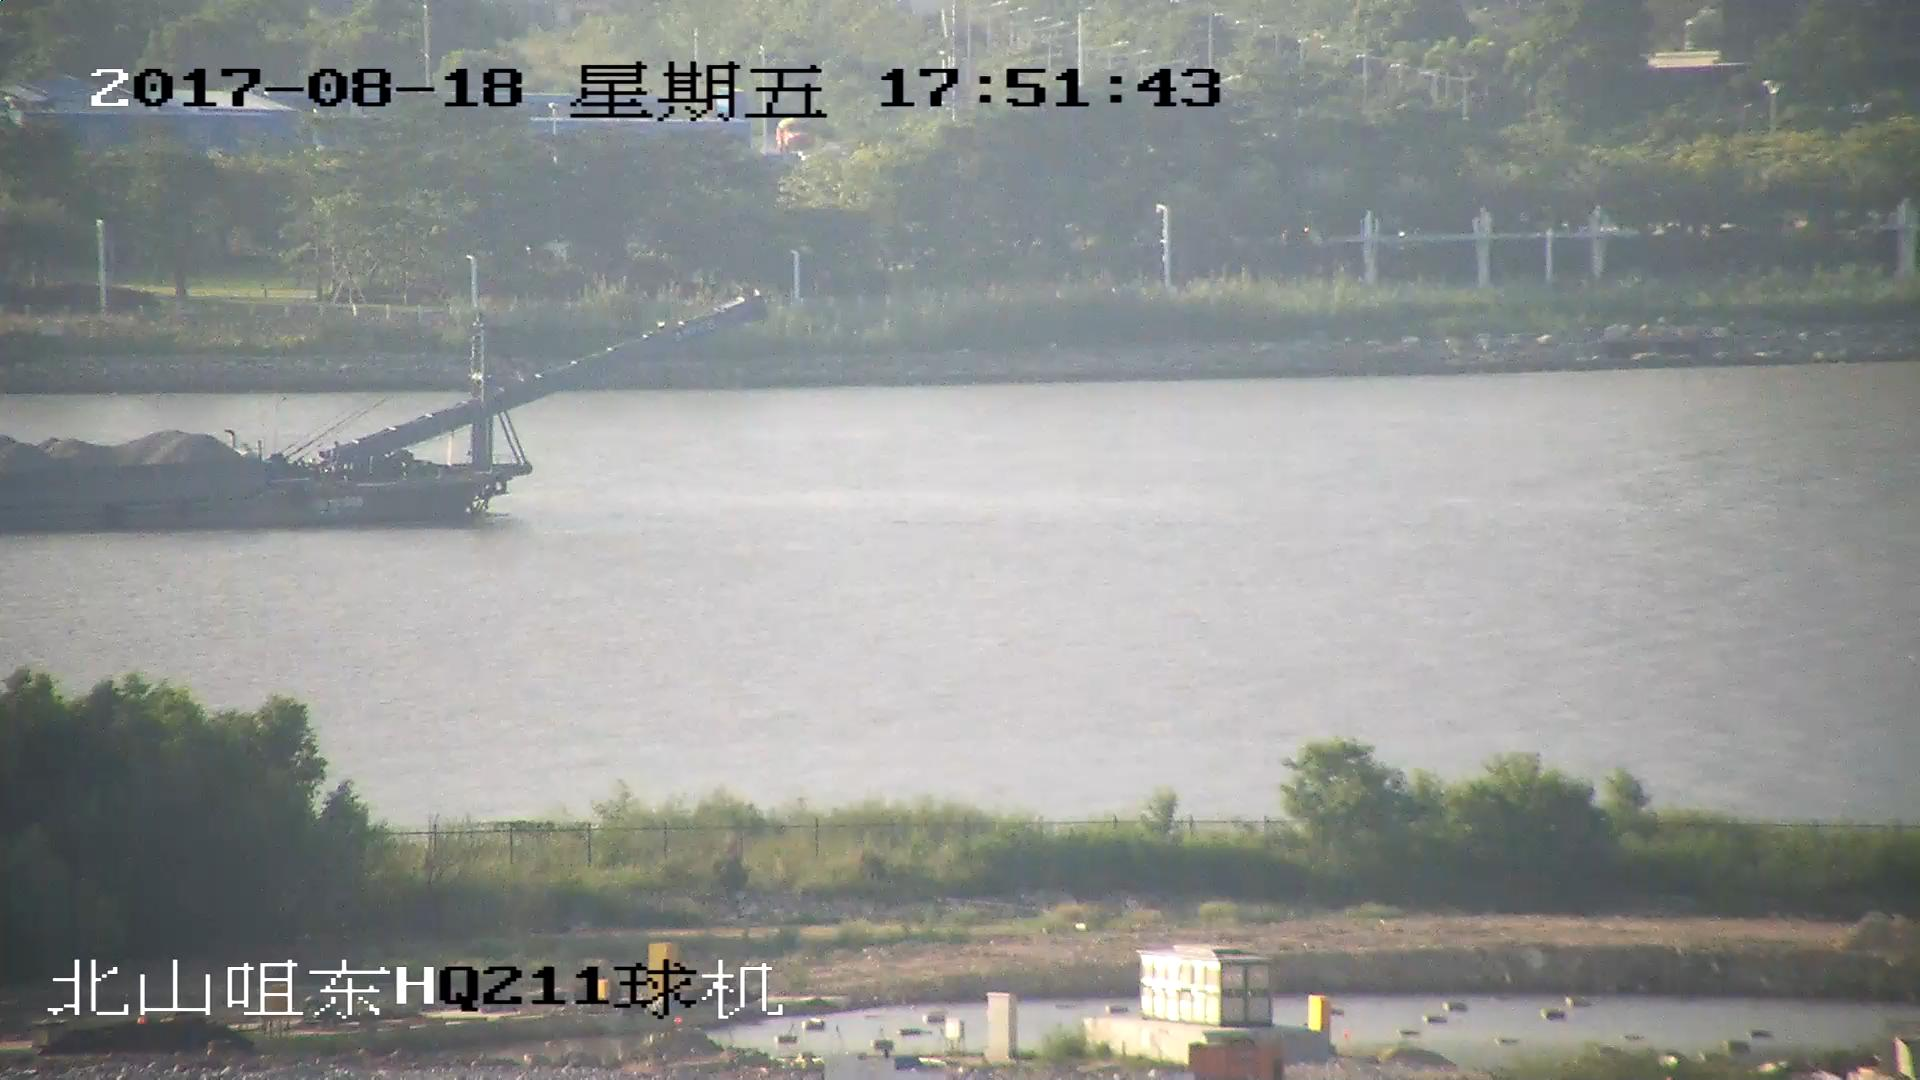ore carrier: (1, 294, 759, 537)
